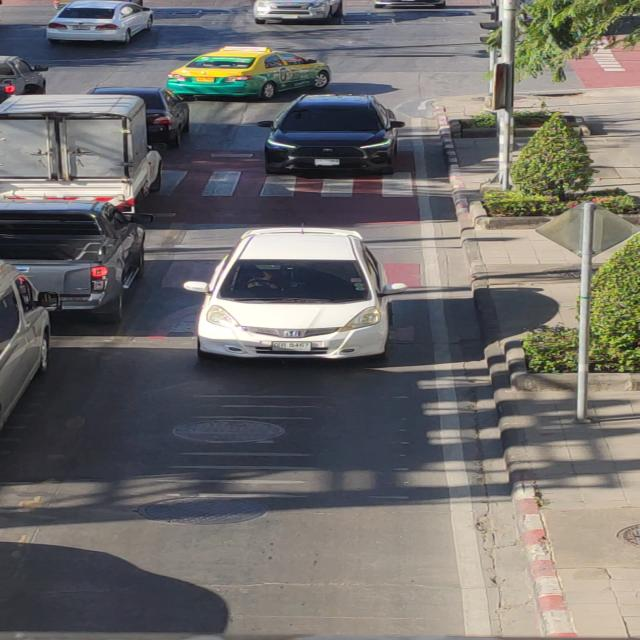car: (167, 214, 435, 378), (251, 90, 407, 185)
